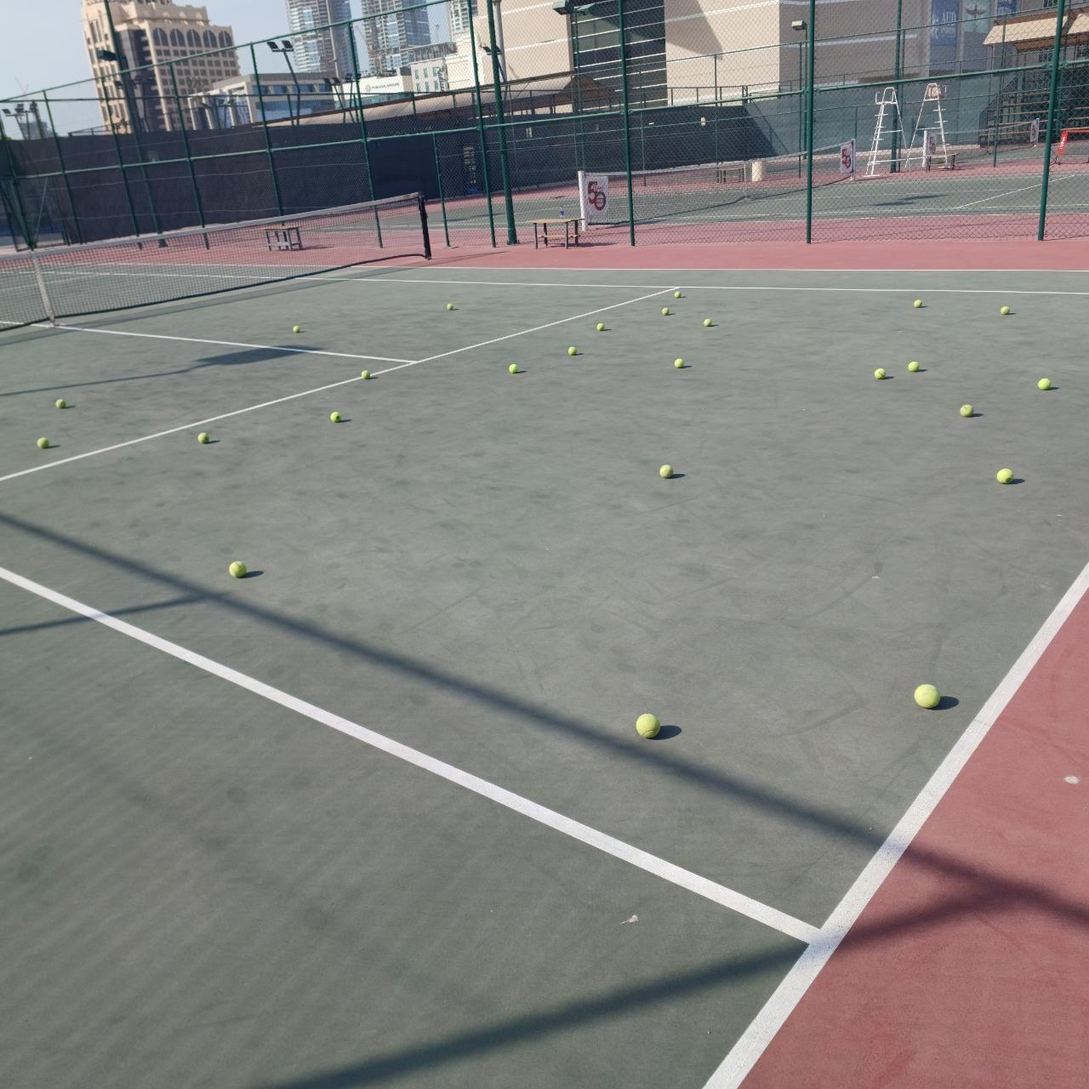tennis-ball: (912, 681, 940, 709), (633, 710, 659, 738), (227, 558, 247, 578), (995, 465, 1012, 483), (659, 464, 673, 480), (1037, 378, 1052, 392), (960, 404, 974, 418), (36, 436, 50, 449), (329, 410, 342, 424), (197, 432, 210, 444), (55, 398, 67, 409), (874, 368, 886, 379), (908, 362, 920, 373), (674, 358, 684, 369), (361, 370, 371, 380), (508, 364, 518, 374), (567, 346, 577, 355), (1000, 306, 1010, 315), (704, 319, 713, 328), (913, 299, 922, 308), (292, 325, 301, 333), (596, 323, 605, 331), (661, 308, 669, 316), (446, 303, 454, 310), (674, 291, 681, 298)
